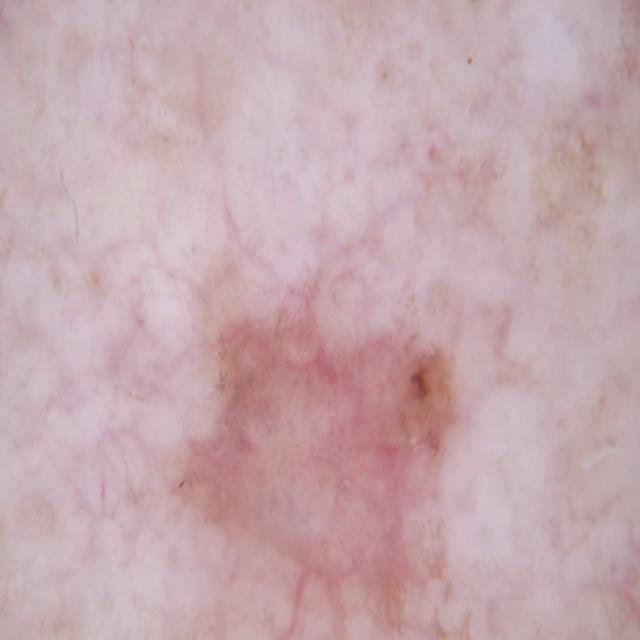Carcinoma: (182, 260, 493, 634)
